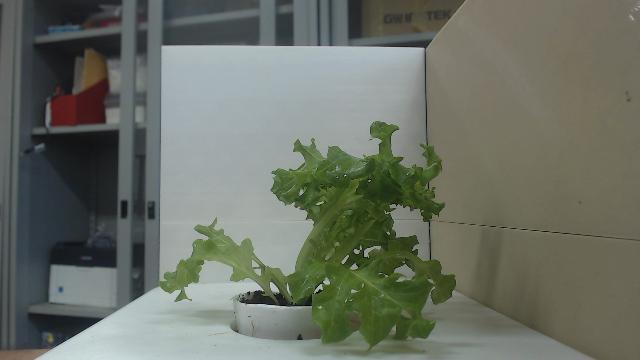Harvest Stage: (159, 115, 457, 352)
